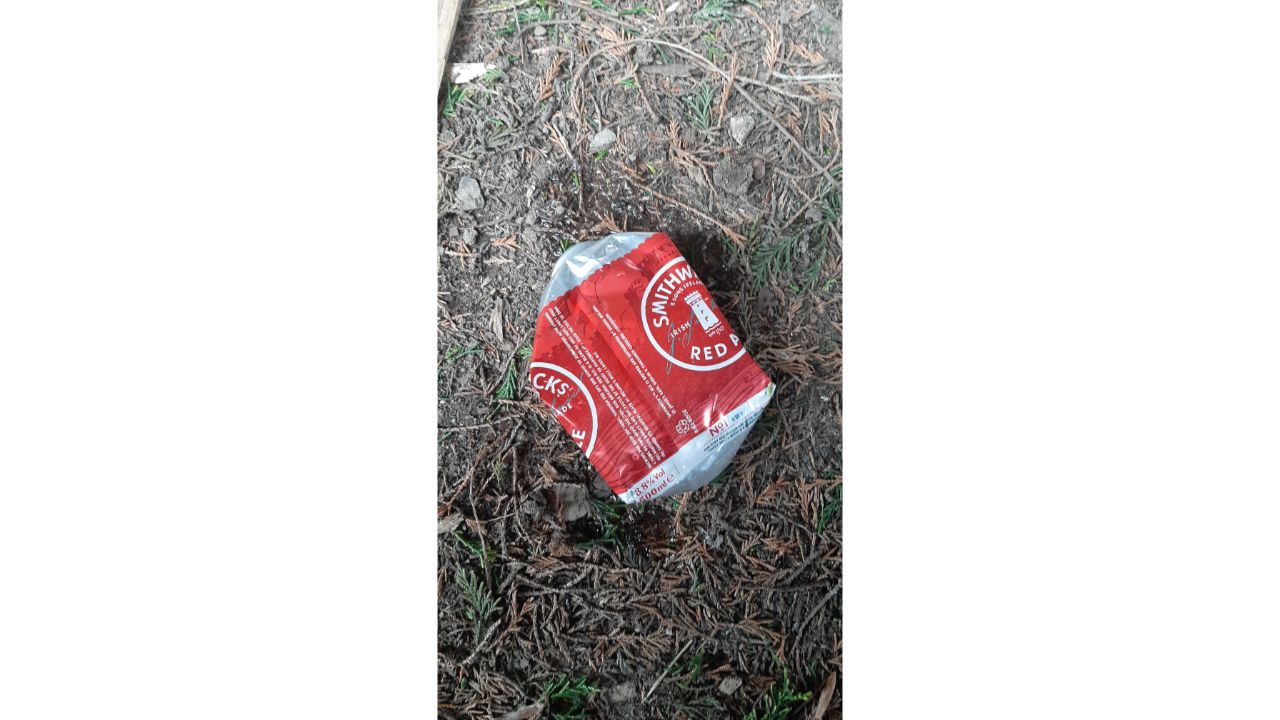Can: (523, 231, 779, 511)
